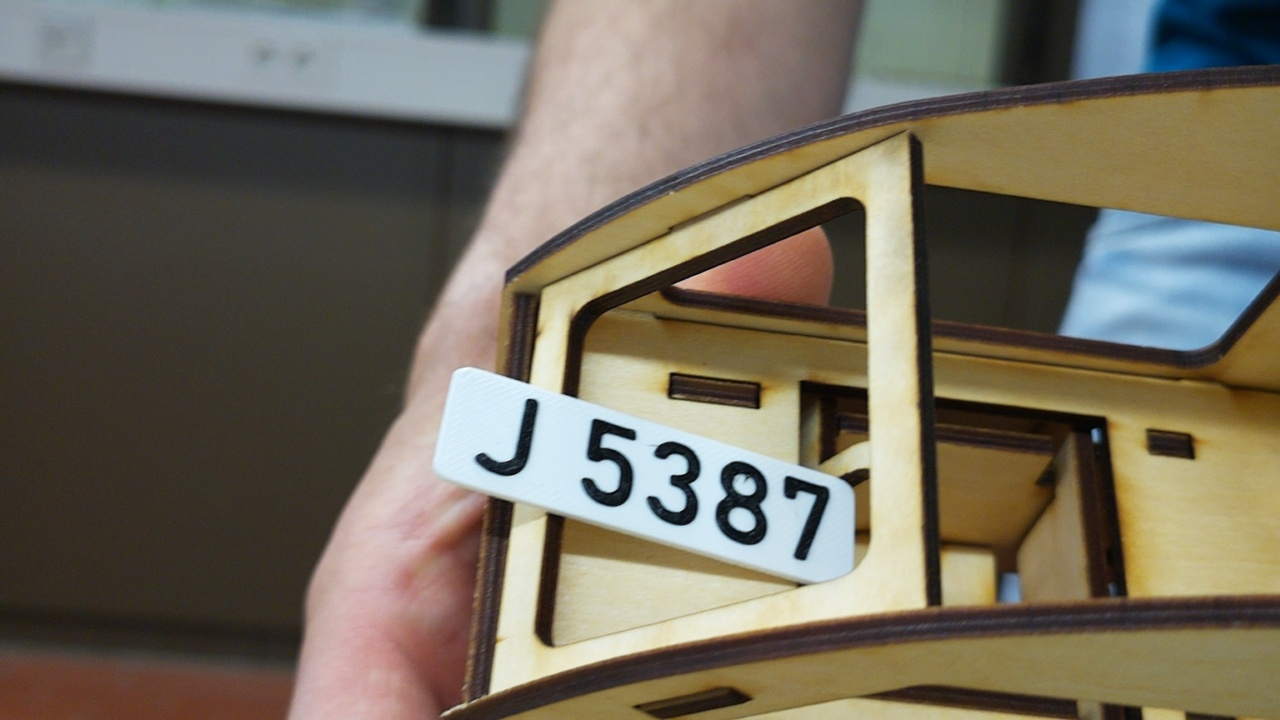license_plate: (428, 362, 860, 587)
